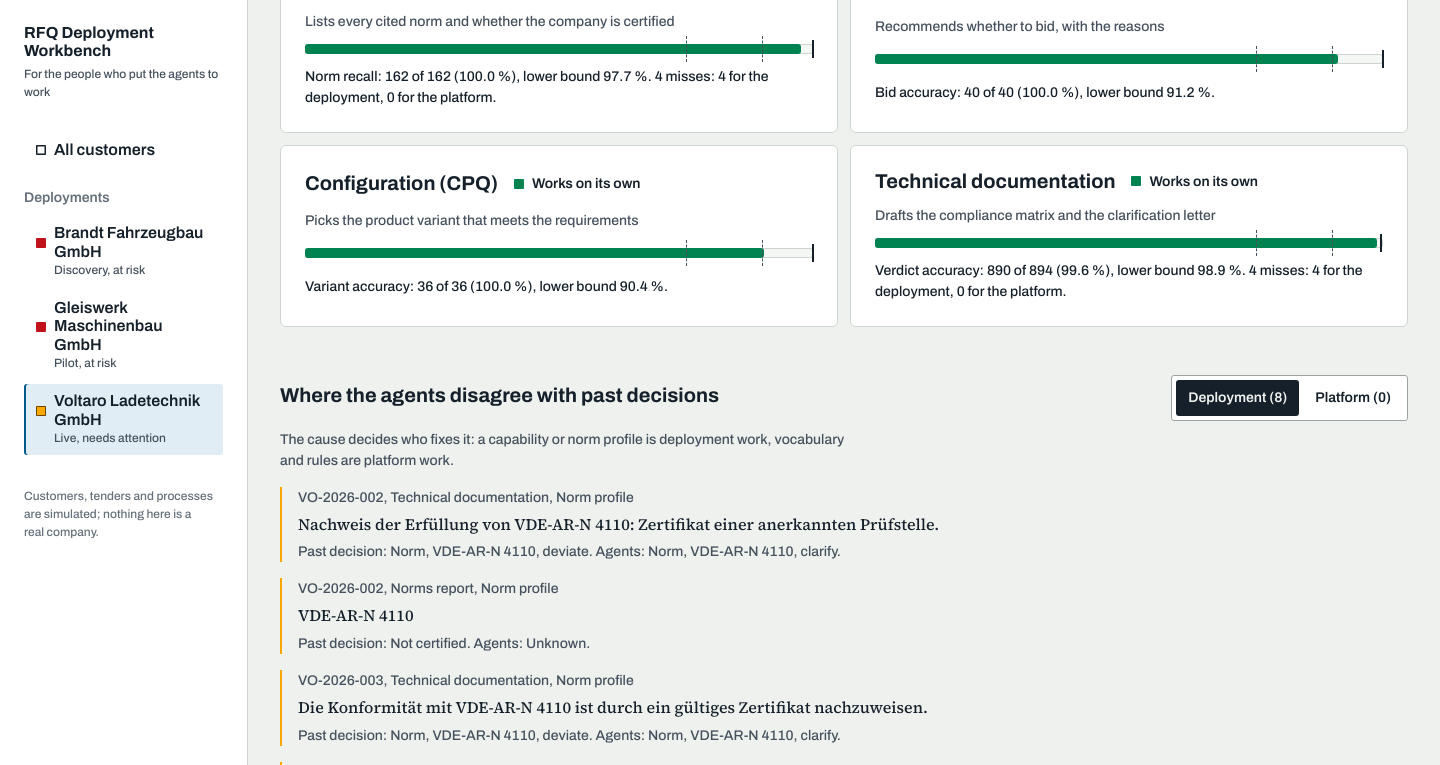
Test: readiness › splits the misses between the deployment and the platform
The image size is (1440, 765).
(page scrolled)
Click the radio button labelled "Platform (0)". click: (1353, 398)
box: [1315,390,1391,405]
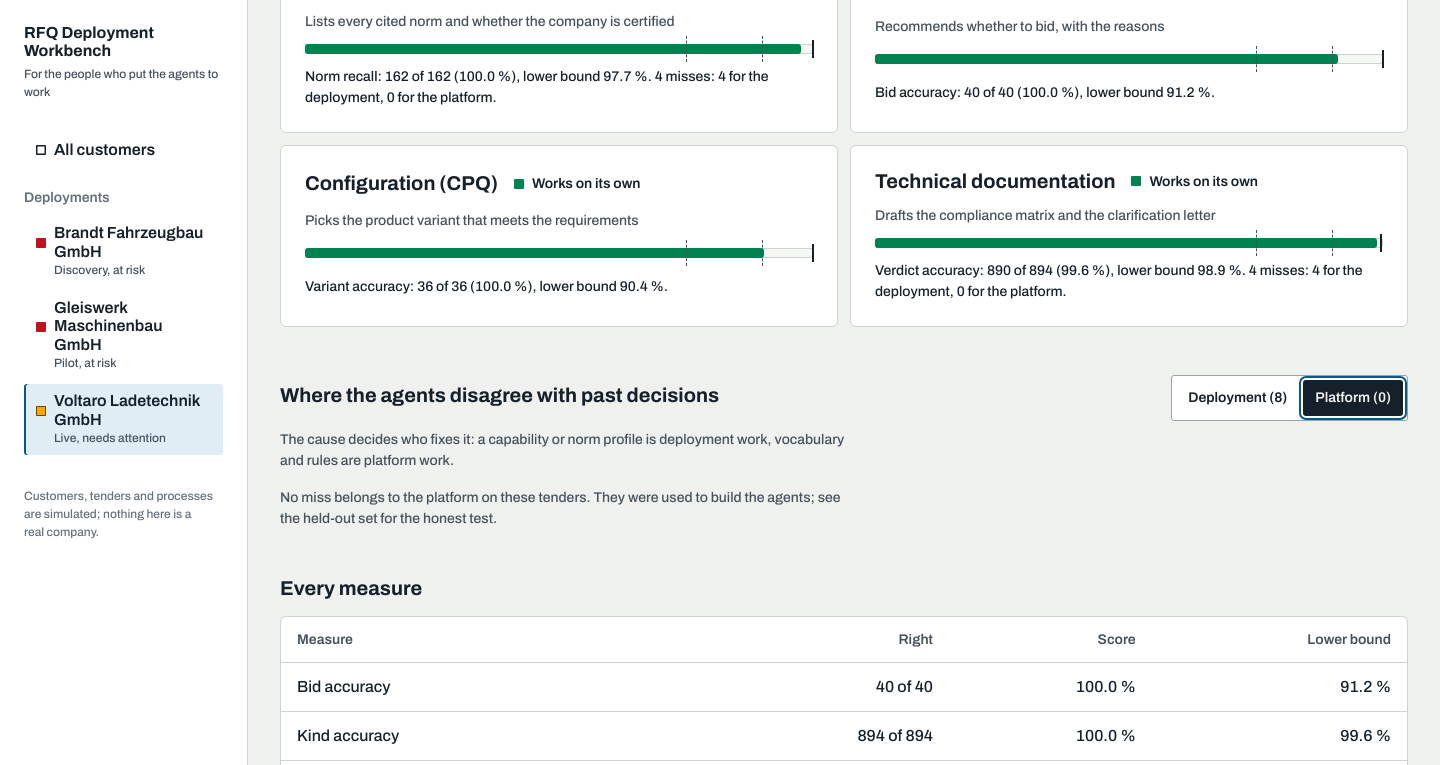
Check: the text "No miss belongs to the platform" is shown, box [280,490,841,526]
